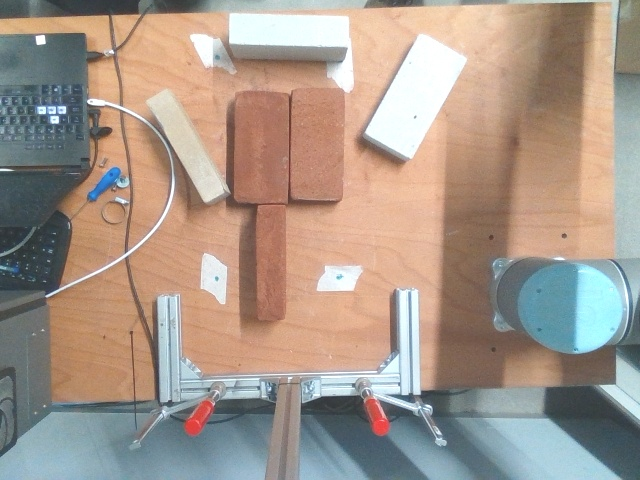brick: (234, 91, 286, 200), (292, 89, 341, 198)
brick-side: (364, 32, 466, 157), (147, 88, 225, 200), (230, 13, 347, 43), (257, 206, 283, 318)
